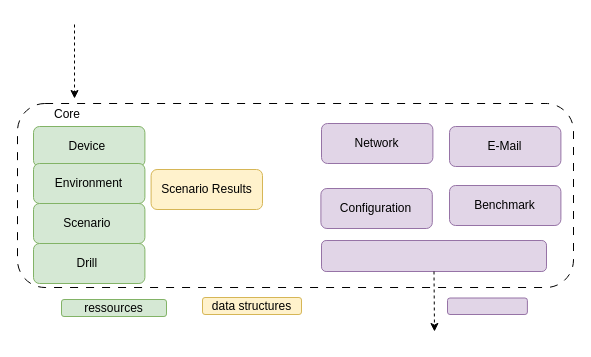
The diagram is 591 pixels wide and 357 high, and some of its shapes have lost their labels. The centre of each missing label's shape, as x and y in pixels:
"Ai Agent create_agent-tools detail below" goes at point (433, 256).
"services" goes at point (486, 305).
